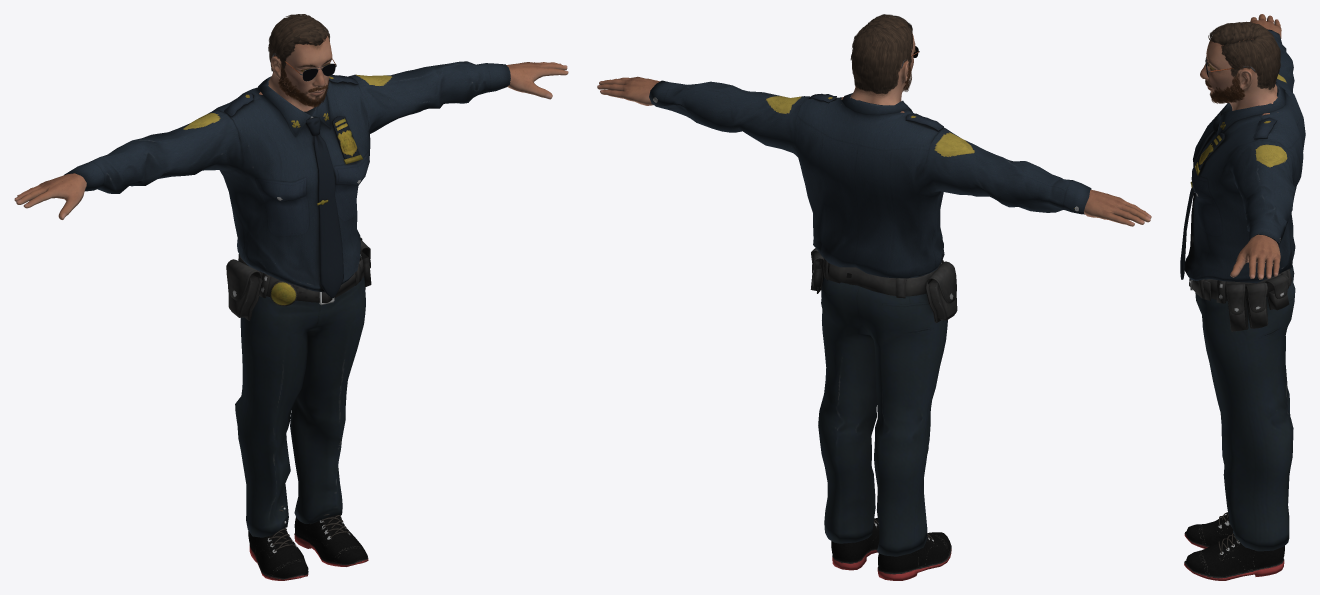
Rendered from police.glb.
3 renders of one model, left to right at view 1: azimuth 30°, elevation 25°; view 2: azimuth 150°, elevation 25°; view 3: azimuth 270°, elevation 25°, orthographic.
Visible parts, largest first — view 1: Object_8, Object_3, Object_9, Object_7, Object_5; view 2: Object_8, Object_3, Object_5, Object_9, Object_7; view 3: Object_3, Object_8, Object_9, Object_7, Object_5, Object_2.
Boxes of the visible parts, <box> form: Object_8: <box>64,61,510,298</box>; Object_3: <box>226,237,371,537</box>; Object_9: <box>14,25,568,219</box>; Object_7: <box>248,505,368,580</box>; Object_5: <box>268,14,329,72</box>; Object_8: <box>649,80,1091,278</box>; Object_3: <box>810,248,957,556</box>; Object_5: <box>850,14,912,94</box>; Object_9: <box>597,18,1151,226</box>; Object_7: <box>831,518,951,580</box>; Object_3: <box>1189,262,1295,551</box>; Object_8: <box>1180,29,1305,283</box>; Object_9: <box>1200,14,1281,279</box>; Object_7: <box>1184,512,1284,580</box>; Object_5: <box>1208,21,1281,89</box>; Object_2: <box>1209,73,1245,103</box>.
Size of the model in its own units: 194 by 182 by 38.68.
Materials: 8 (8 with a texture image).
